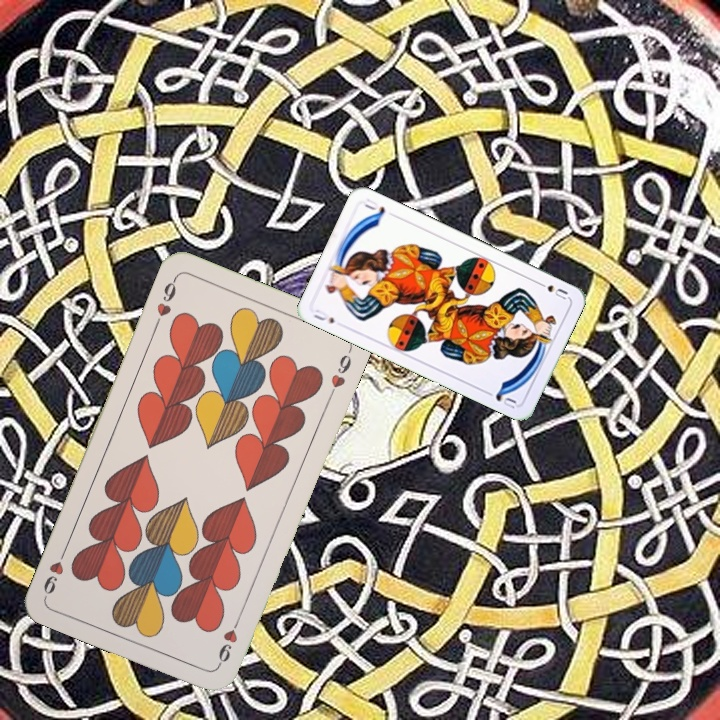H9: (213, 613, 244, 669), (151, 273, 179, 330)
SU: (532, 278, 570, 302), (309, 305, 337, 327)
